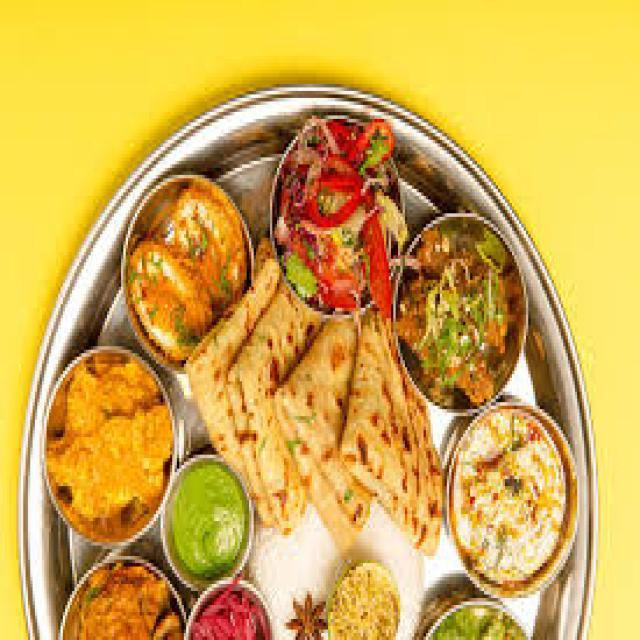raita: (443, 412, 579, 586)
rice: (444, 403, 574, 588)
roti: (191, 283, 359, 503), (340, 322, 441, 562)
veg-fry: (105, 160, 258, 373), (390, 213, 532, 429)
